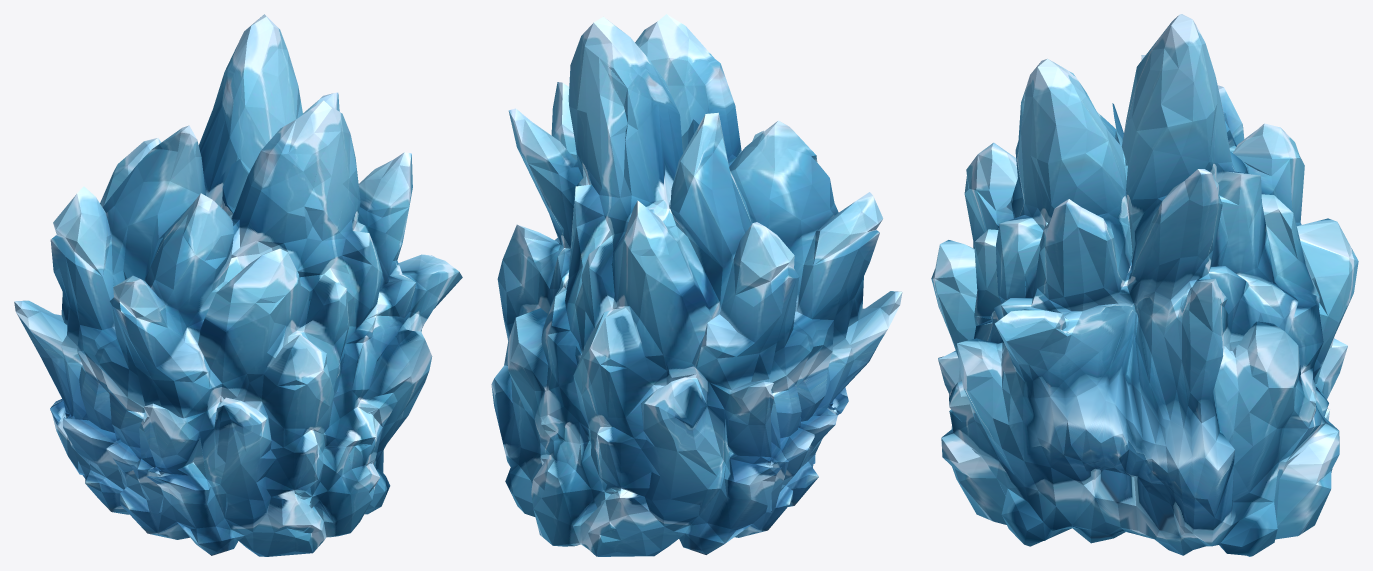
Rendered from boss_Bomb_Ice.glb.
The picture shows the model from 3 angles, left to right: view 1: azimuth 30°, elevation 25°; view 2: azimuth 150°, elevation 25°; view 3: azimuth 270°, elevation 25°; orthographic projection. The views are drawn at different scales.
Visible parts, largest first — view 1: Object_2; view 2: Object_2; view 3: Object_2.
Part boxes in pixels (x1,y1,x2,y2): Object_2: (14, 14, 462, 556); Object_2: (491, 14, 902, 556); Object_2: (931, 14, 1358, 556).
Size of the model in its own units: 0.6936 by 0.9524 by 0.7043.
1 material, 1 textured.
